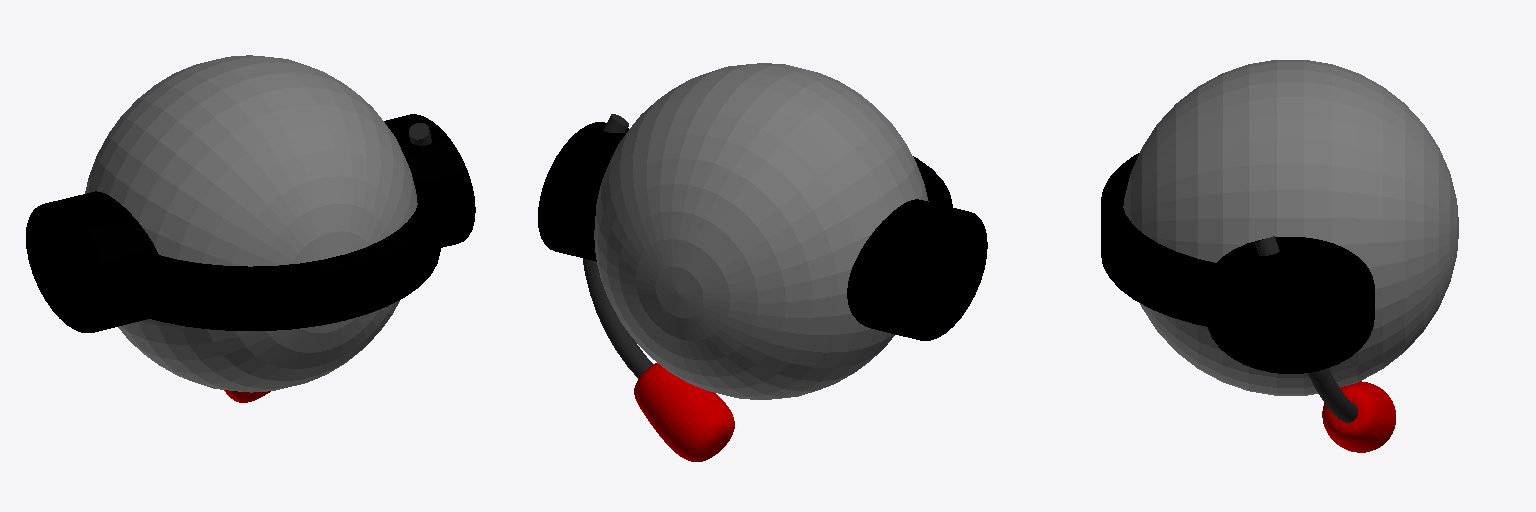
File: MarbleHeadset_v11.obj
3 renders of one model, left to right at view 1: azimuth 30°, elevation 25°; view 2: azimuth 150°, elevation 25°; view 3: azimuth 270°, elevation 25°, orthographic.
Visible parts, largest first — view 1: Body1, Body1:2; view 2: Body1, Body1:2, Body1:1, Body1:3; view 3: Body1, Body1:2, Body1:1, Body1:3.
Part boxes in pixels (bbox=[...]): Body1: bbox=[85, 55, 417, 392]; Body1:2: bbox=[26, 114, 475, 332]; Body1: bbox=[594, 63, 928, 399]; Body1:2: bbox=[538, 122, 987, 340]; Body1:1: bbox=[634, 363, 734, 461]; Body1:3: bbox=[583, 114, 653, 378]; Body1: bbox=[1123, 60, 1458, 395]; Body1:2: bbox=[1101, 153, 1374, 373]; Body1:1: bbox=[1322, 381, 1395, 452]; Body1:3: bbox=[1255, 236, 1357, 422].
Size of the model in its own units: 20 by 18.84 by 17.